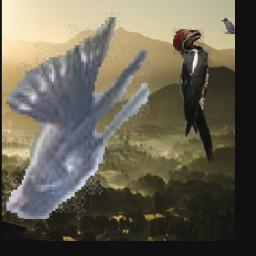Cuckoo: (220, 18, 235, 35)
Swallow: (2, 12, 149, 219)
Woodpecker: (173, 29, 213, 165)
